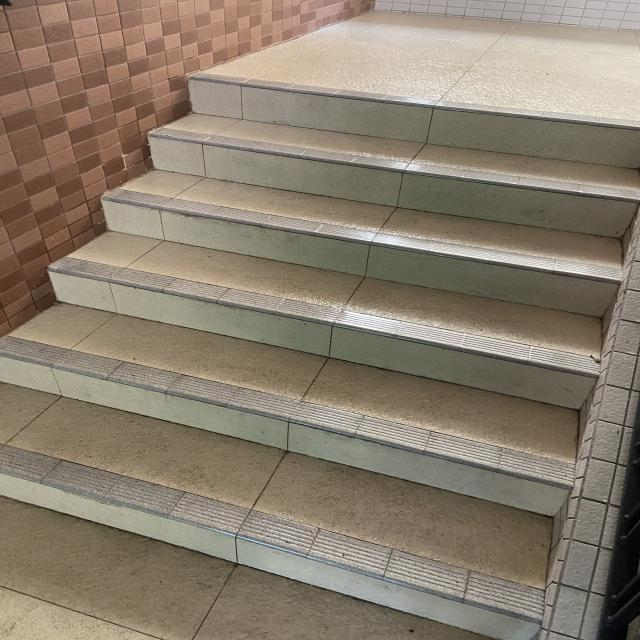Stairs: (0, 73, 640, 640)
